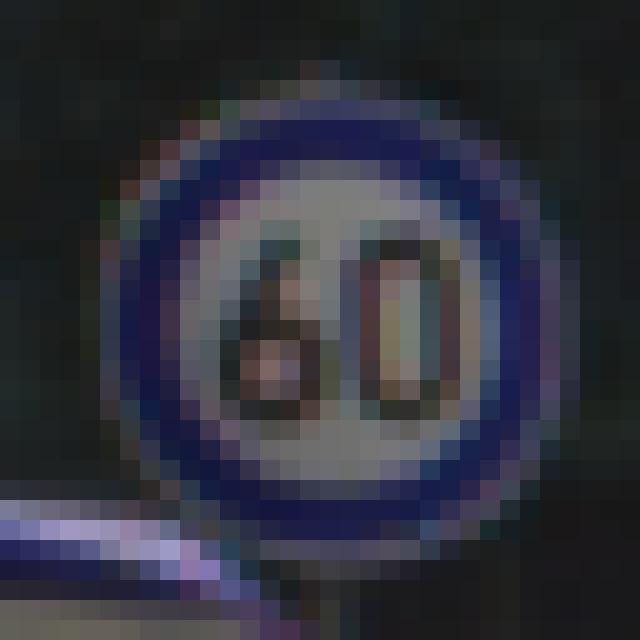SPEED-LIMIT-60: (78, 58, 589, 616)
